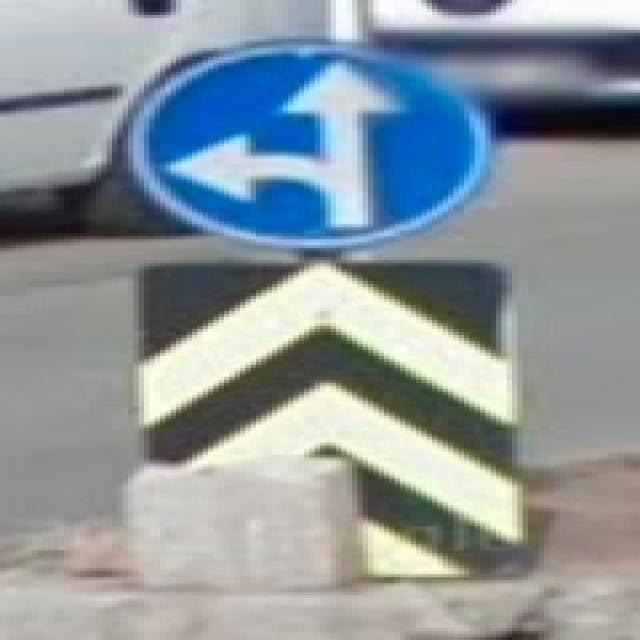Straight or Left: (129, 40, 492, 249)
